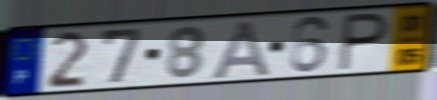2: (46, 29, 92, 91)
6: (289, 14, 331, 75)
7: (99, 26, 146, 86)
8: (166, 24, 208, 81)
A: (207, 18, 273, 81)
P: (336, 11, 392, 73)
